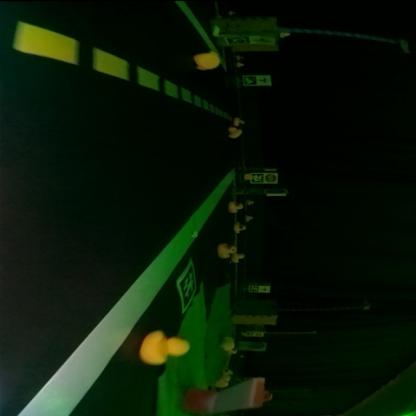Duckie: (142, 332, 190, 362), (196, 52, 221, 70), (219, 242, 237, 257), (231, 127, 242, 138), (230, 204, 242, 212), (235, 254, 246, 262), (236, 223, 246, 230)
Intersection sign: (254, 36, 274, 44), (258, 77, 272, 85)
QR code: (180, 258, 198, 312), (228, 36, 248, 44), (252, 173, 265, 182), (246, 76, 256, 86)
Stop sign: (267, 173, 277, 183)
